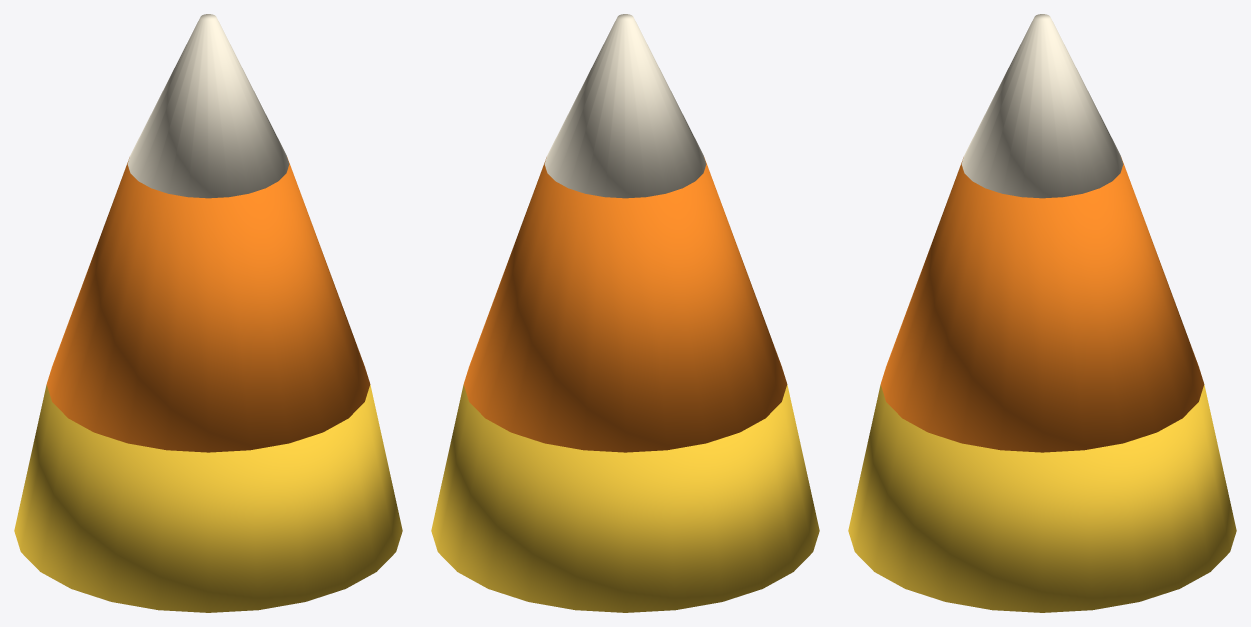
File: P_CandyCornGiant.fbx
3 views of the same model, side by side, from view 1: azimuth 30°, elevation 25°; view 2: azimuth 150°, elevation 25°; view 3: azimuth 270°, elevation 25° (orthographic).
Visible parts, largest first — view 1: P_CandyCornGiant__Orange, P_CandyCornGiant__Yellow, P_CandyCornGiant__Tip; view 2: P_CandyCornGiant__Orange, P_CandyCornGiant__Yellow, P_CandyCornGiant__Tip; view 3: P_CandyCornGiant__Orange, P_CandyCornGiant__Yellow, P_CandyCornGiant__Tip.
Part boxes in pixels (x1=…): P_CandyCornGiant__Orange: x1=46, y1=157, x2=370, y2=452; P_CandyCornGiant__Yellow: x1=14, y1=385, x2=402, y2=612; P_CandyCornGiant__Tip: x1=127, y1=14, x2=289, y2=198; P_CandyCornGiant__Orange: x1=463, y1=157, x2=787, y2=452; P_CandyCornGiant__Yellow: x1=431, y1=385, x2=819, y2=612; P_CandyCornGiant__Tip: x1=544, y1=14, x2=706, y2=198; P_CandyCornGiant__Orange: x1=880, y1=157, x2=1204, y2=452; P_CandyCornGiant__Yellow: x1=848, y1=385, x2=1236, y2=612; P_CandyCornGiant__Tip: x1=961, y1=14, x2=1123, y2=198.
Bounding box in the file's own units: 4.8 × 7 × 4.8.
